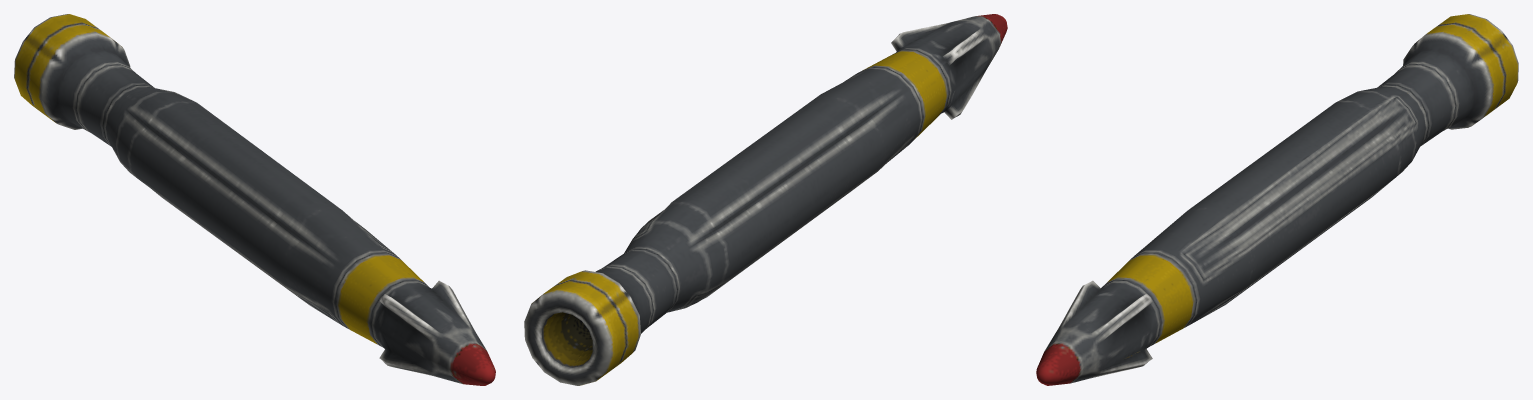
File: rocket.glb
3 renders of one model, left to right at view 1: azimuth 30°, elevation 25°; view 2: azimuth 150°, elevation 25°; view 3: azimuth 330°, elevation 25°, orthographic.
Parts seen in each view (by area): view 1: Anti_Air_System_Rocket.001_0; view 2: Anti_Air_System_Rocket.001_0; view 3: Anti_Air_System_Rocket.001_0.
Part boxes in pixels (x1=…): Anti_Air_System_Rocket.001_0: x1=14, y1=14, x2=495, y2=385; Anti_Air_System_Rocket.001_0: x1=524, y1=14, x2=1007, y2=385; Anti_Air_System_Rocket.001_0: x1=1036, y1=14, x2=1518, y2=385.
Size of the model in its own units: 0.0494 by 0.0494 by 0.4147.
Materials: 1 (1 with a texture image).
